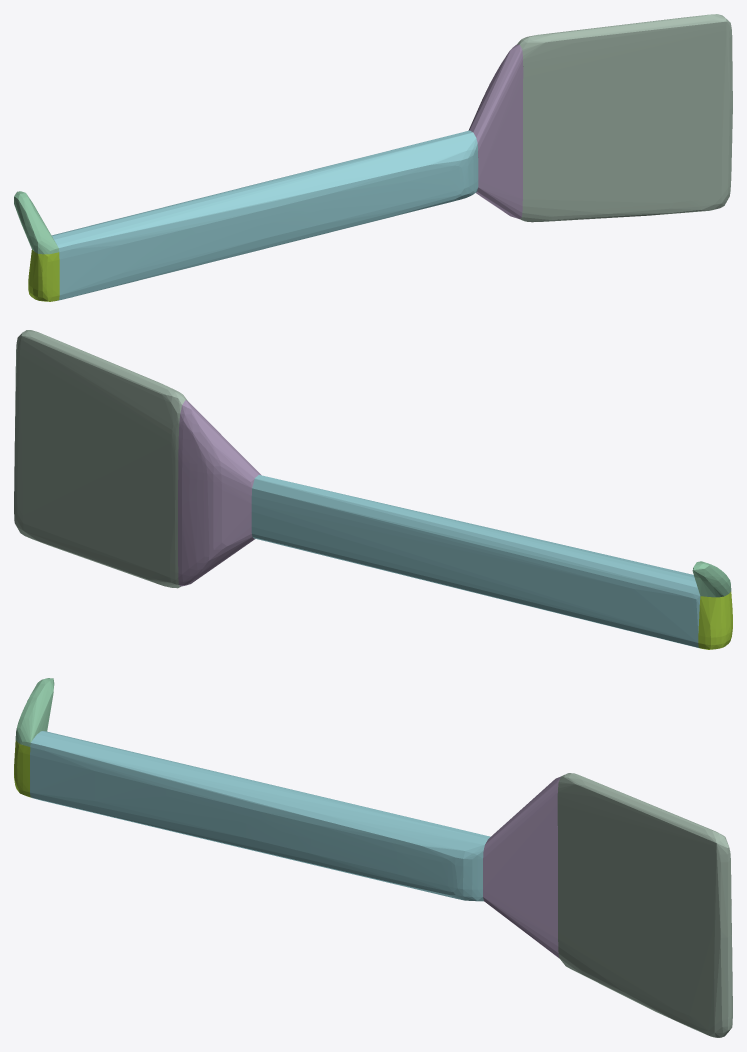
The model's file is flat_spatula-collision.glb.
3 renders of one model, top to bottom at view 1: azimuth 30°, elevation 25°; view 2: azimuth 150°, elevation 25°; view 3: azimuth 330°, elevation 25°, orthographic. The views are drawn at different scales.
Parts seen in each view (by area): view 1: flat_spatula_collision0_0, flat_spatula_collision2_0, flat_spatula_collision1_0, flat_spatula_collision4_0, flat_spatula_collision3_0; view 2: flat_spatula_collision0_0, flat_spatula_collision2_0, flat_spatula_collision1_0, flat_spatula_collision4_0, flat_spatula_collision3_0; view 3: flat_spatula_collision0_0, flat_spatula_collision2_0, flat_spatula_collision1_0, flat_spatula_collision3_0, flat_spatula_collision4_0.
Part boxes in pixels (x1,y1,x2,y2): flat_spatula_collision0_0: (517,14,732,222); flat_spatula_collision2_0: (51,130,478,300); flat_spatula_collision1_0: (468,44,523,219); flat_spatula_collision4_0: (28,250,59,301); flat_spatula_collision3_0: (14,191,59,254); flat_spatula_collision0_0: (14,330,187,588); flat_spatula_collision2_0: (251,475,700,648); flat_spatula_collision1_0: (178,400,261,586); flat_spatula_collision4_0: (698,592,732,649); flat_spatula_collision3_0: (692,561,731,597); flat_spatula_collision0_0: (557,773,732,1037); flat_spatula_collision2_0: (30,731,490,901); flat_spatula_collision1_0: (483,776,560,958); flat_spatula_collision3_0: (15,678,54,746); flat_spatula_collision4_0: (14,740,30,797).
Bounding box in the file's own units: 0.3522 × 0.0959 × 0.035.
